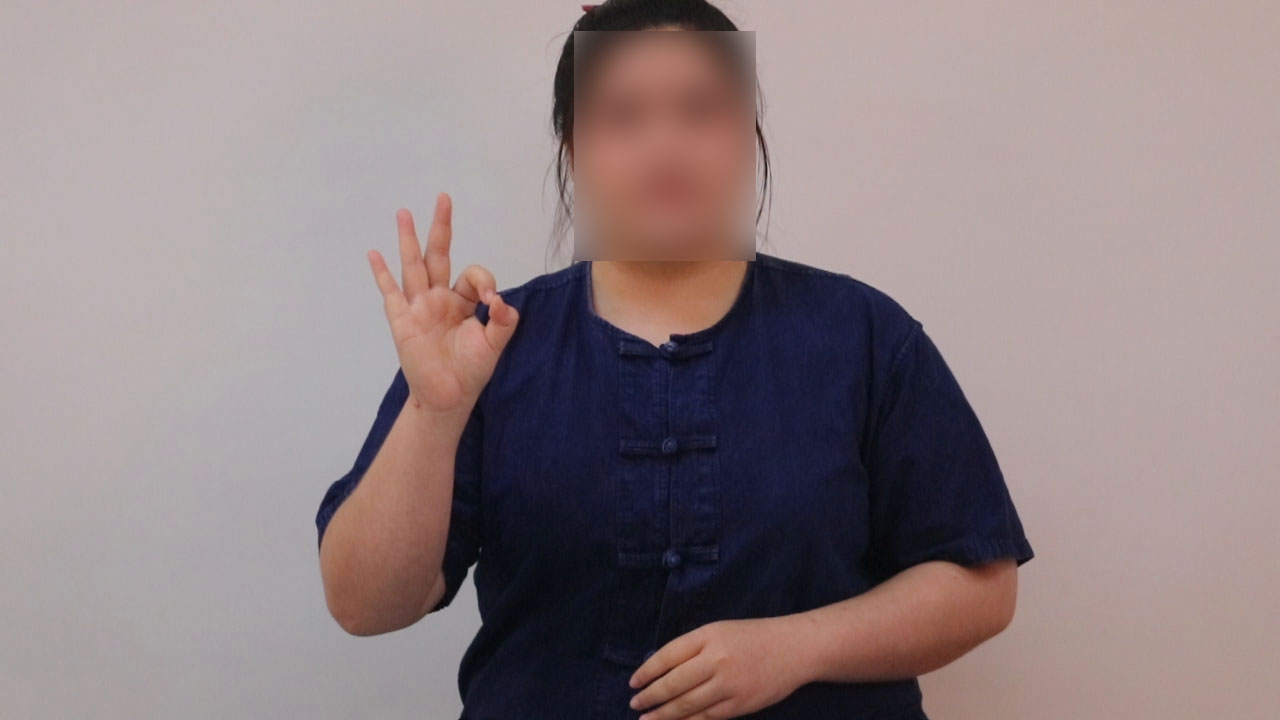for: (359, 182, 529, 425)
